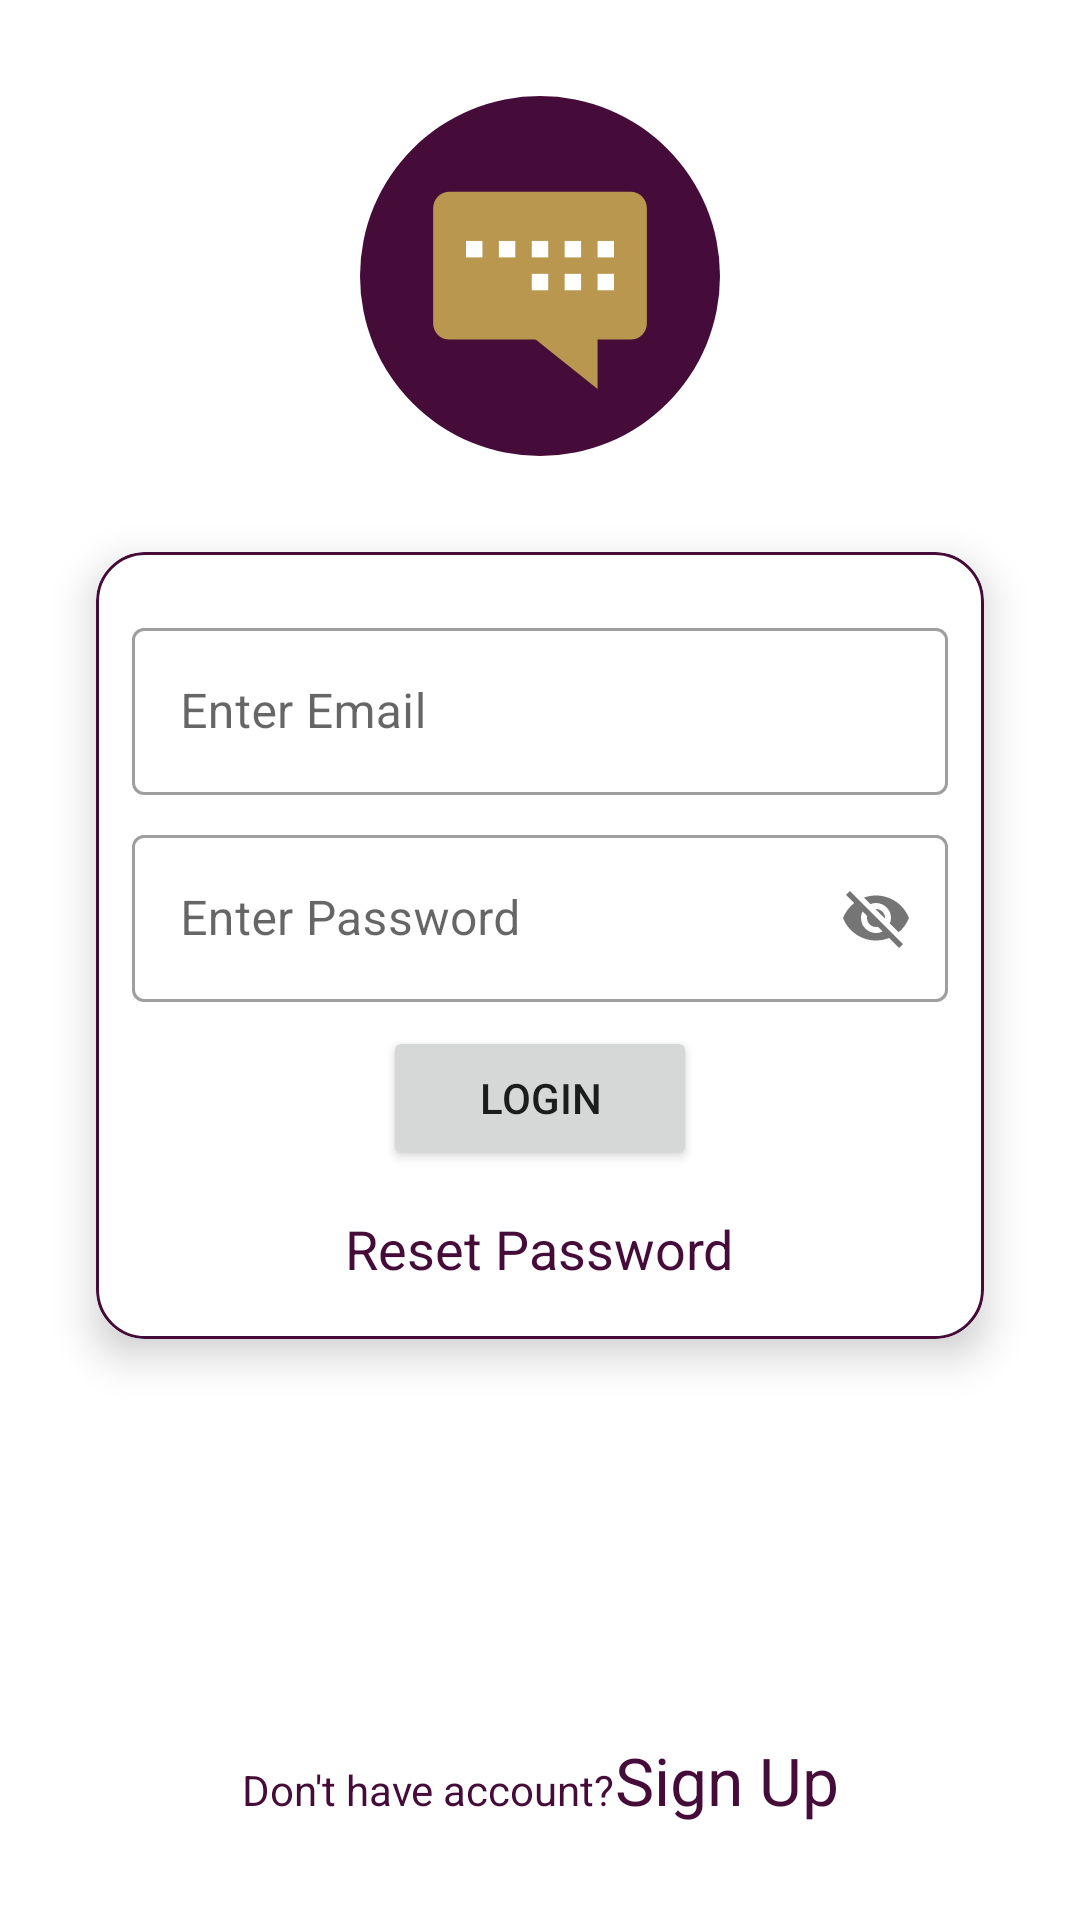

Locate icon controls on the screen. Image size 1080*1920, boxes as {"x1": x1, "y1": y1, "x2": x2, "y2": y2}.
bubble: {"x1": 360, "y1": 96, "x2": 720, "y2": 456}
